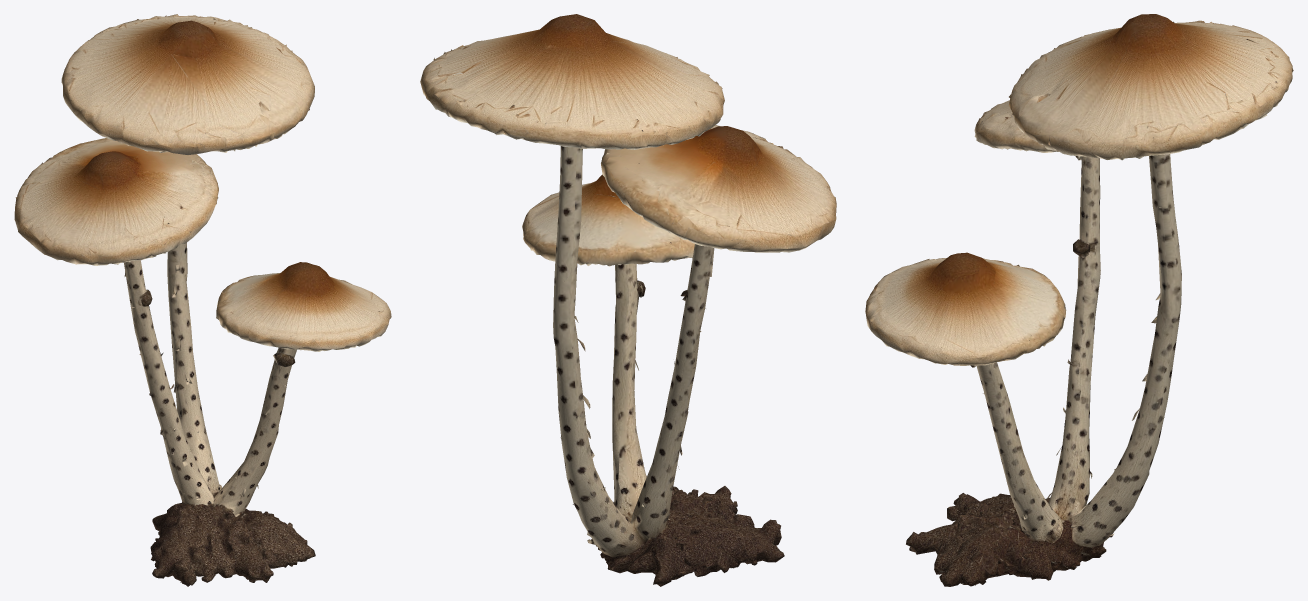
The model's file is mushroom_parasol.glb.
3 views of the same model, side by side, from view 1: azimuth 30°, elevation 25°; view 2: azimuth 150°, elevation 25°; view 3: azimuth 270°, elevation 25° (orthographic). The views are drawn at different scales.
Parts seen in each view (by area): view 1: mushroom_parasol_0; view 2: mushroom_parasol_0; view 3: mushroom_parasol_0.
Part boxes in pixels (x1,y1,x2,y2): mushroom_parasol_0: (14, 14, 391, 586); mushroom_parasol_0: (420, 14, 836, 586); mushroom_parasol_0: (865, 14, 1293, 586).
Bounding box in the file's own units: 0.3335 × 0.52 × 0.366.
Materials: 1 (1 with a texture image).
